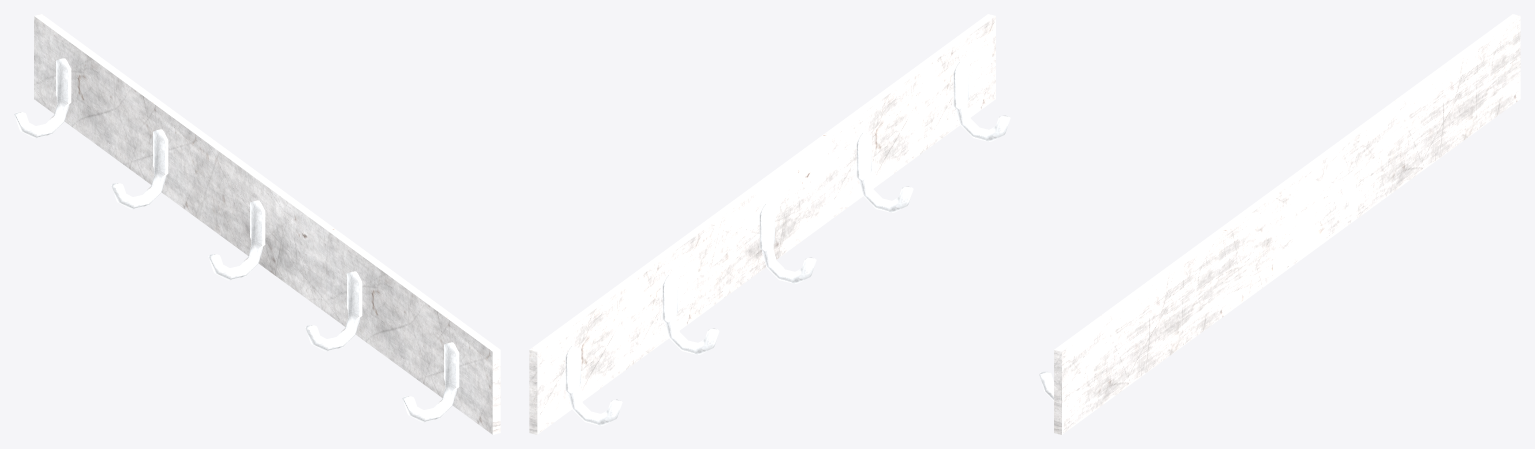
The model's file is SM_ClothHolder.fbx.
3 views of the same model, side by side, from view 1: azimuth 30°, elevation 25°; view 2: azimuth 150°, elevation 25°; view 3: azimuth 330°, elevation 25° (orthographic).
Parts seen in each view (by area): view 1: SM_ClothHolder_LOD0; view 2: SM_ClothHolder_LOD0; view 3: SM_ClothHolder_LOD0.
Boxes of the visible parts, x1,y1,x2,y2 form: SM_ClothHolder_LOD0: (14, 14, 500, 434); SM_ClothHolder_LOD0: (529, 14, 1010, 434); SM_ClothHolder_LOD0: (1039, 14, 1520, 434).
Bounding box in the file's own units: 7.52 × 100 × 10.83.
2 materials, 1 textured.
